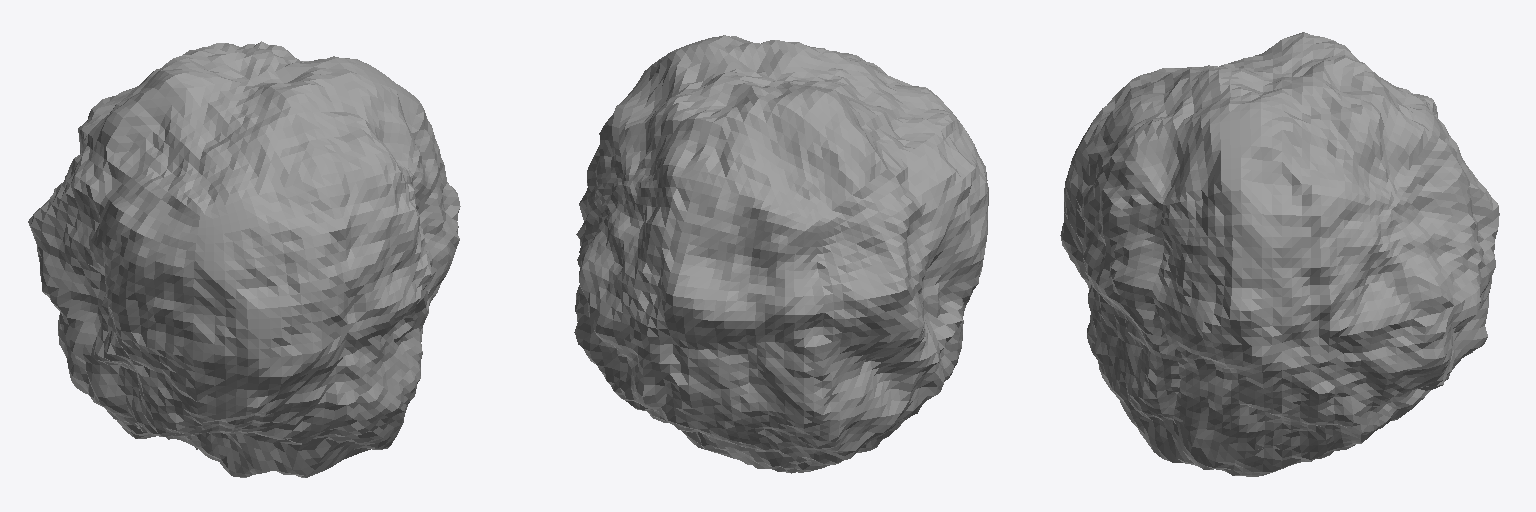
File: asteroid.obj
3 views of the same model, side by side, from view 1: azimuth 30°, elevation 25°; view 2: azimuth 150°, elevation 25°; view 3: azimuth 270°, elevation 25° (orthographic).
Parts seen in each view (by area): view 1: Cube; view 2: Cube; view 3: Cube.
Boxes of the visible parts, x1,y1,x2,y2 form: Cube: [28, 41, 460, 477]; Cube: [574, 35, 988, 473]; Cube: [1060, 32, 1499, 476].
Bounding box in the file's own units: 3.67 × 3.63 × 3.82.